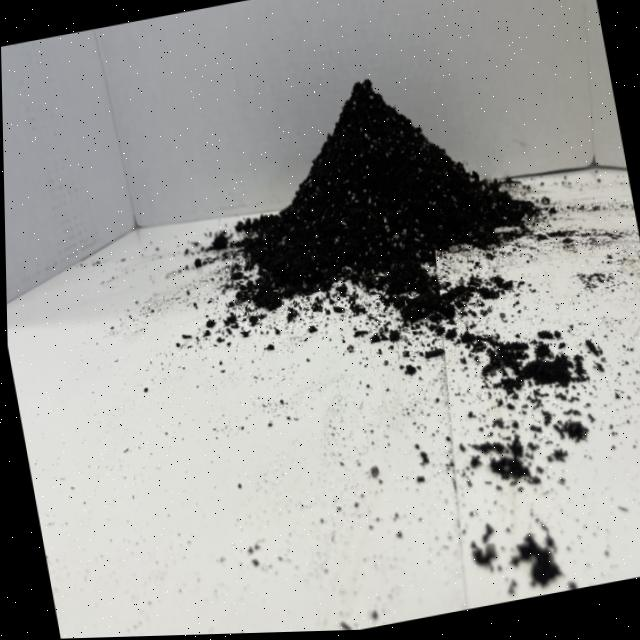soil: (192, 46, 551, 326)
